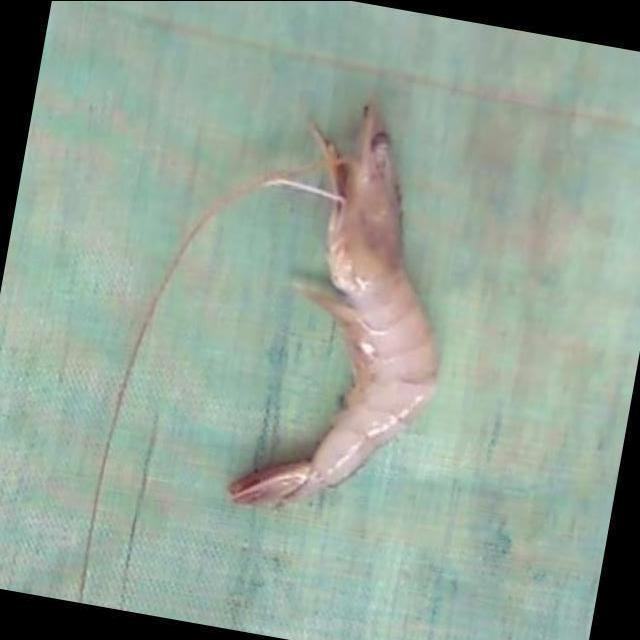shrimp: (230, 102, 438, 506)
